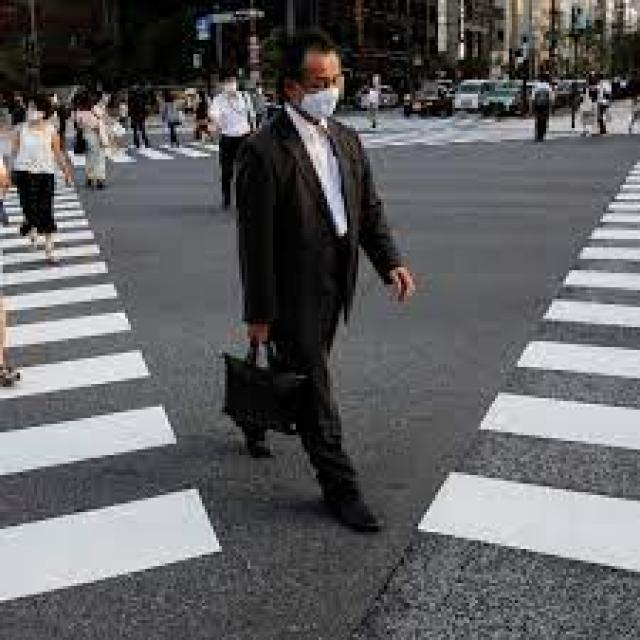Pedestrians: (219, 28, 427, 535)
